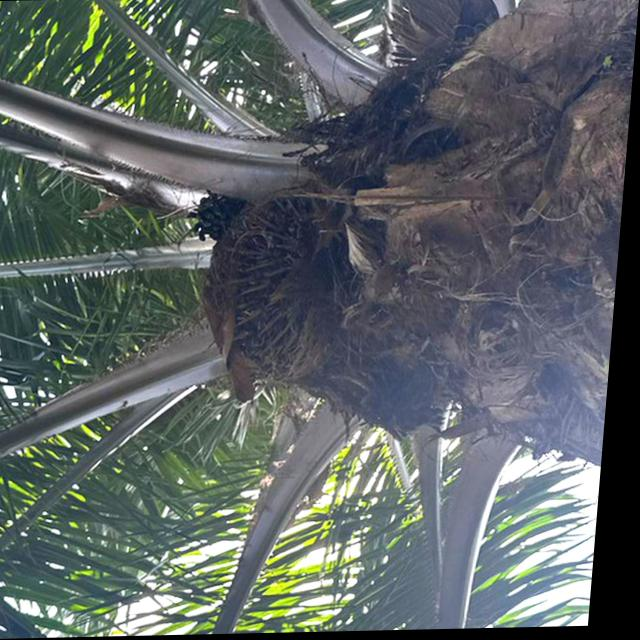ripe: (193, 165, 370, 410)
